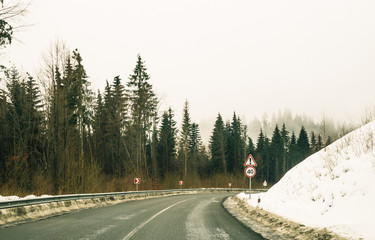rightTrun: (110, 173, 238, 240)
